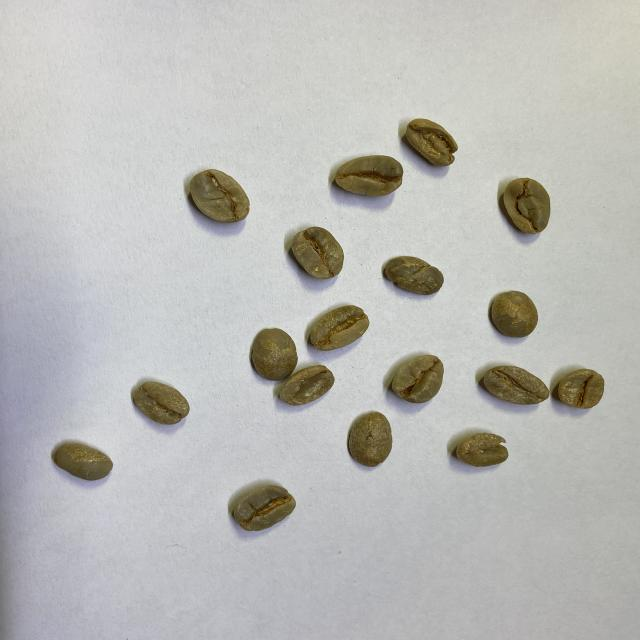bad: (500, 173, 554, 237), (233, 482, 296, 531), (307, 302, 371, 349), (401, 117, 458, 168), (556, 366, 610, 411), (452, 431, 511, 468), (283, 365, 336, 406)
good: (189, 167, 251, 222), (290, 225, 346, 282), (480, 364, 551, 407), (388, 353, 445, 405), (130, 379, 193, 426), (337, 154, 402, 198), (346, 410, 395, 468), (380, 253, 444, 297), (52, 439, 114, 482), (250, 327, 300, 380), (487, 289, 538, 338)
